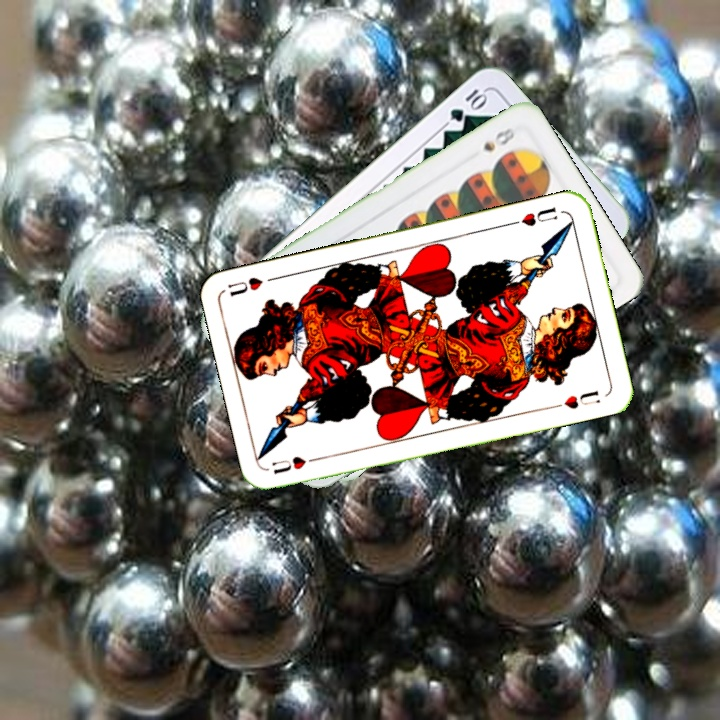G10: (445, 84, 490, 125)
HU: (268, 452, 324, 477), (507, 203, 560, 229)
S8: (479, 121, 520, 155)
